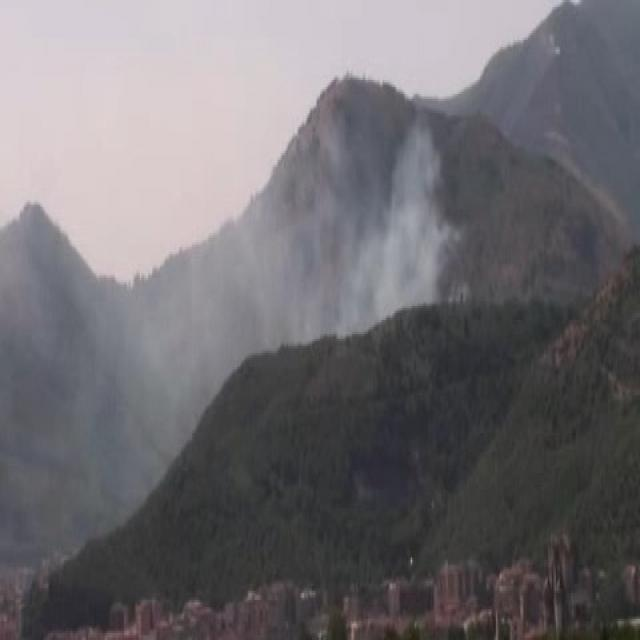smoke: (266, 121, 452, 342), (28, 302, 211, 446)
